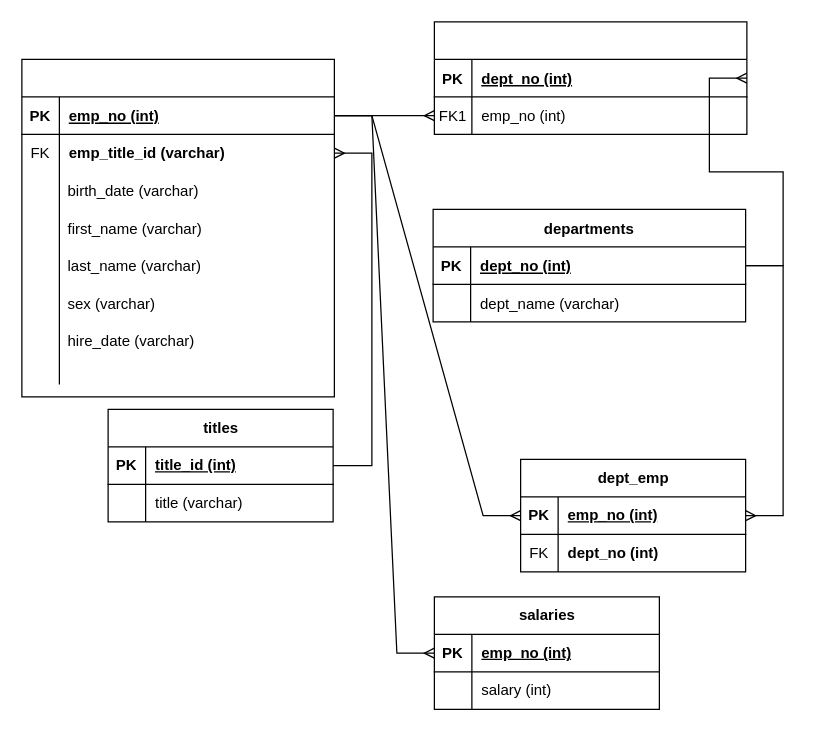
The diagram is 815 pixels wide and 731 high, and some of its shapes have lost their labels. Each missing label, with the box of its shape:
dept_manager: (433, 21, 747, 134)
employees: (21, 58, 334, 397)
